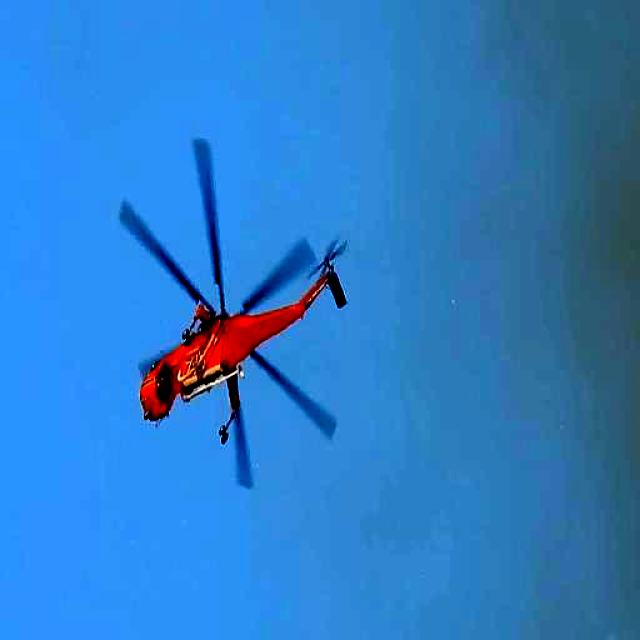drone: (88, 126, 359, 524)
